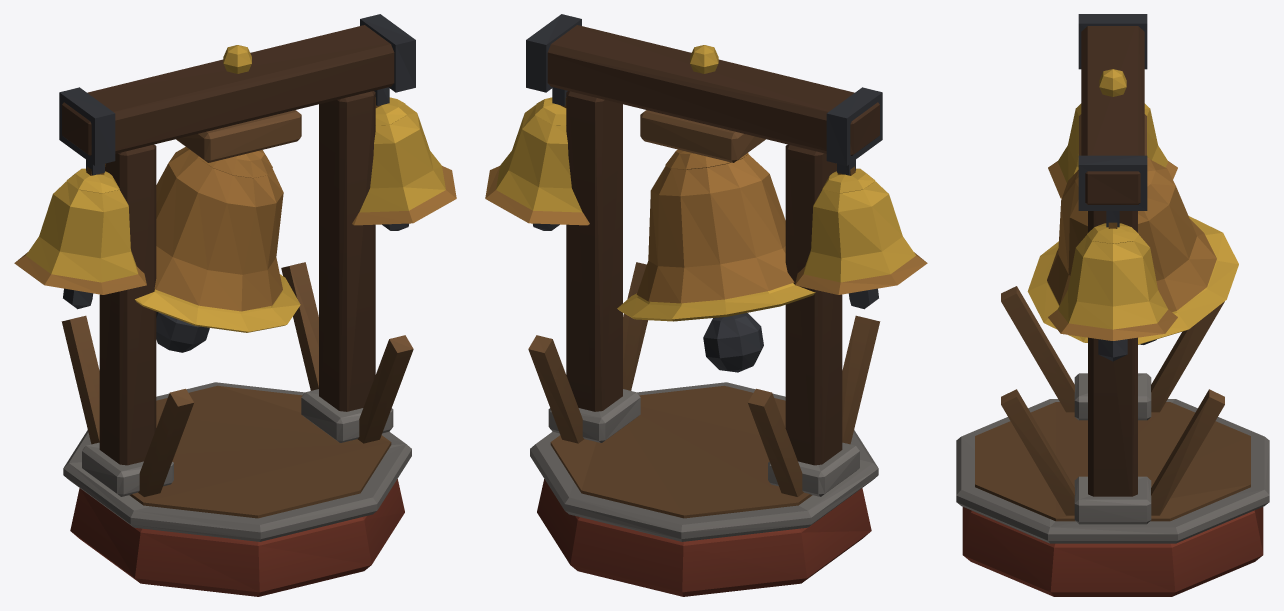
Rendered from ringing_clapper.glb.
3 views of the same model, side by side, from view 1: azimuth 30°, elevation 25°; view 2: azimuth 150°, elevation 25°; view 3: azimuth 270°, elevation 25° (orthographic). The views are drawn at different scales.
Visible parts, largest first — view 1: ringing_clapper; view 2: ringing_clapper; view 3: ringing_clapper.
Part boxes in pixels (x1,y1,x2,y2): ringing_clapper: (14, 14, 456, 596); ringing_clapper: (485, 14, 927, 596); ringing_clapper: (956, 14, 1269, 596).
Bounding box in the file's own units: 1.04 × 1.14 × 0.6929.
